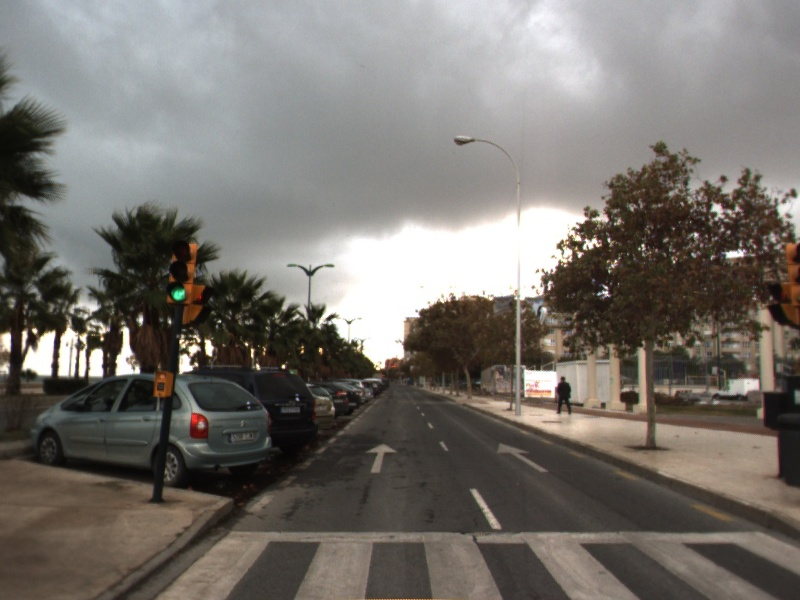STRAIGHT: (495, 442, 550, 474), (364, 442, 399, 474)
